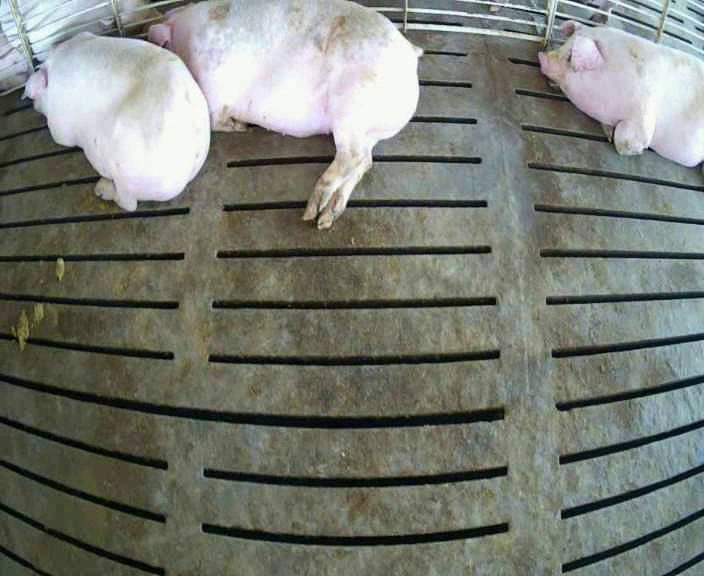pig: (149, 2, 421, 228), (25, 33, 209, 210), (538, 21, 703, 166)
